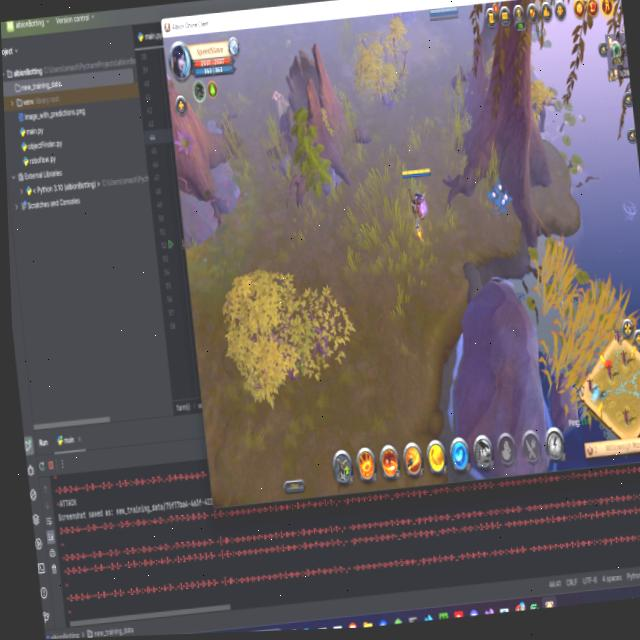hide: (488, 179, 513, 226)
red: (398, 162, 440, 244), (425, 5, 463, 25)
